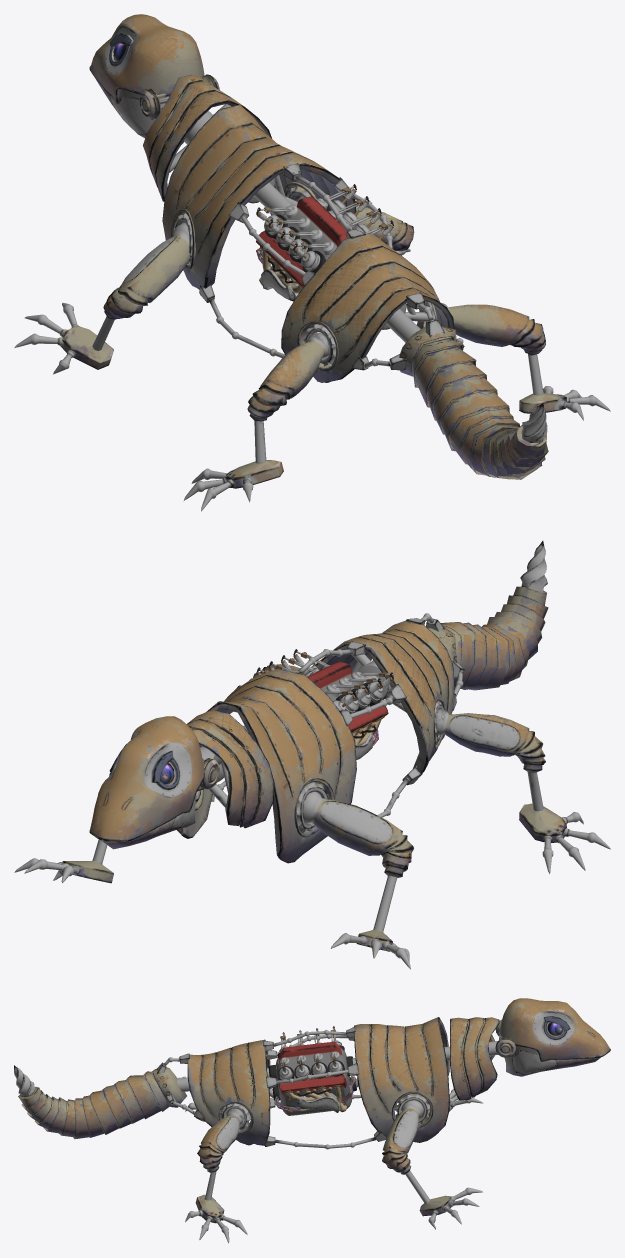
File: Lizard.glb
The picture shows the model from 3 angles, top to bottom: view 1: azimuth 30°, elevation 25°; view 2: azimuth 150°, elevation 25°; view 3: azimuth 270°, elevation 25°; orthographic projection. The views are drawn at different scales.
Parts seen in each view (by area): view 1: Scales, Legs, Tail, Head, Engine, Spine; view 2: Scales, Legs, Head, Tail, Engine, Spine; view 3: Scales, Legs, Tail, Head, Engine, Spine.
Boxes of the visible parts, x1=… form: Scales: x1=143, y1=74, x2=464, y2=382; Legs: x1=14, y1=182, x2=610, y2=511; Tail: x1=399, y1=326, x2=548, y2=479; Head: x1=89, y1=14, x2=219, y2=144; Engine: x1=256, y1=184, x2=393, y2=301; Spine: x1=169, y1=104, x2=429, y2=342; Scales: x1=177, y1=613, x2=464, y2=863; Legs: x1=14, y1=664, x2=610, y2=969; Head: x1=89, y1=716, x2=219, y2=849; Tail: x1=425, y1=541, x2=548, y2=690; Engine: x1=256, y1=649, x2=393, y2=759; Spine: x1=197, y1=654, x2=406, y2=807; Scales: x1=156, y1=1017, x2=499, y2=1149; Legs: x1=185, y1=1089, x2=483, y2=1243; Tail: x1=14, y1=1065, x2=186, y2=1139; Head: x1=495, y1=998, x2=610, y2=1076; Engine: x1=268, y1=1026, x2=356, y2=1115; Spine: x1=177, y1=1041, x2=497, y2=1098.
Bounding box in the file's own units: 0.1573 × 0.096 × 0.2933.
Materials: 1 (1 with a texture image).
